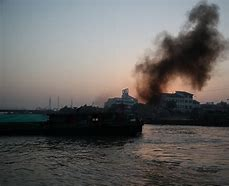smoke: (136, 2, 227, 97)
